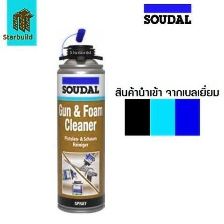aerosol_cans: (53, 23, 109, 216)
